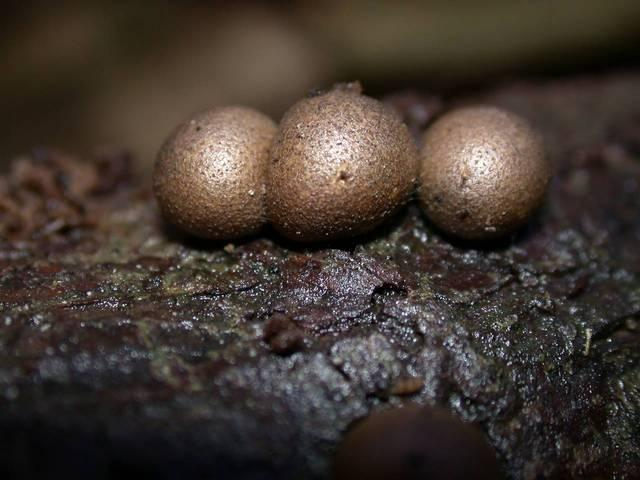Non-edible Mushroom: (151, 78, 552, 245), (264, 79, 418, 243), (415, 102, 552, 240), (151, 103, 277, 240), (327, 400, 505, 479)
